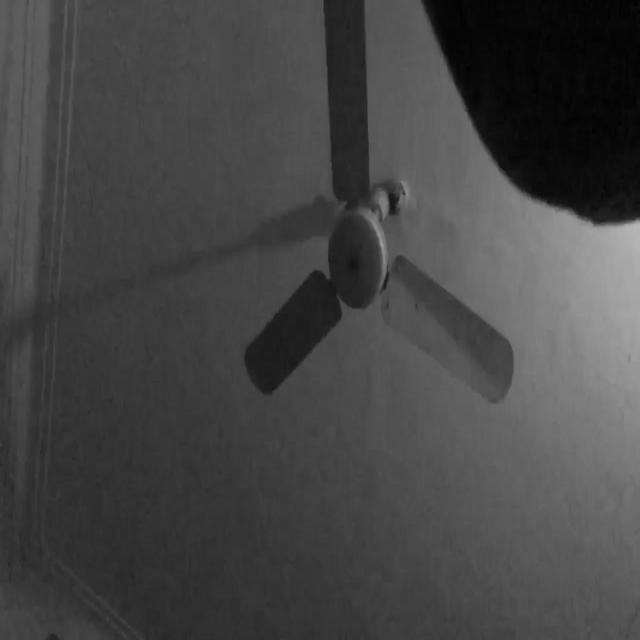fan: (143, 0, 515, 404)
